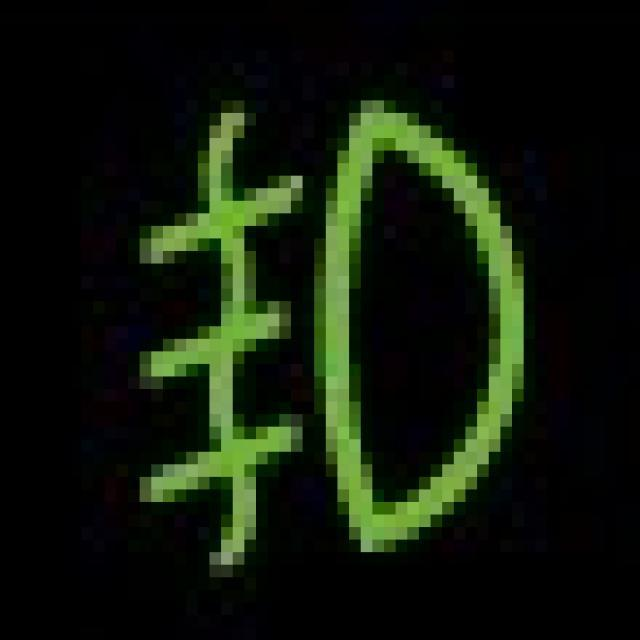FrontFogLight: (116, 88, 512, 552)
